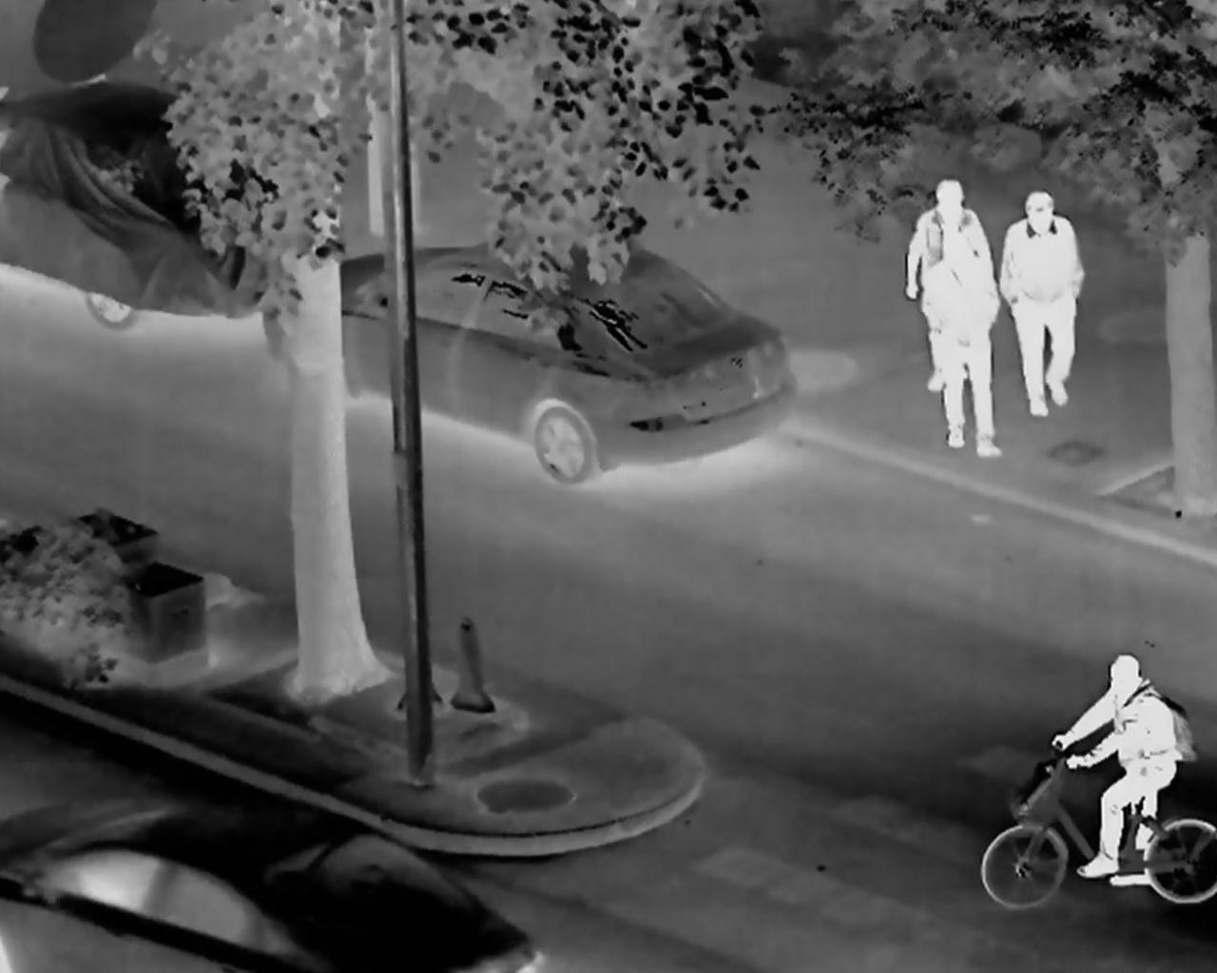person: (1049, 654, 1175, 888), (1000, 191, 1086, 419), (900, 178, 984, 395), (923, 236, 1000, 456)
